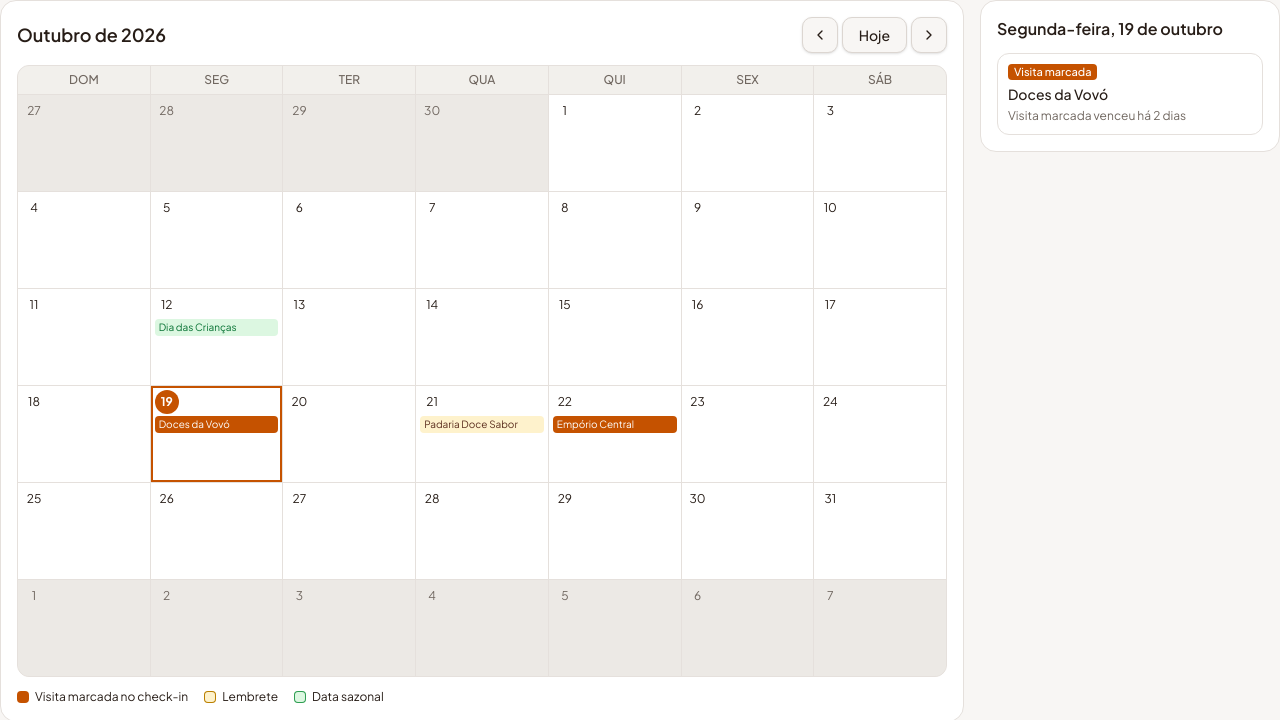
Test case: Calendario › clicar num dia mostra a lista do dia, com a visita marcada e a campanha
What coordinates should you click on to do the following:
click the button with aria-label "quinta-feira, 22 de outubro, 1 item"
I would click on:
 (615, 434)
Its box is [549, 386, 680, 482].
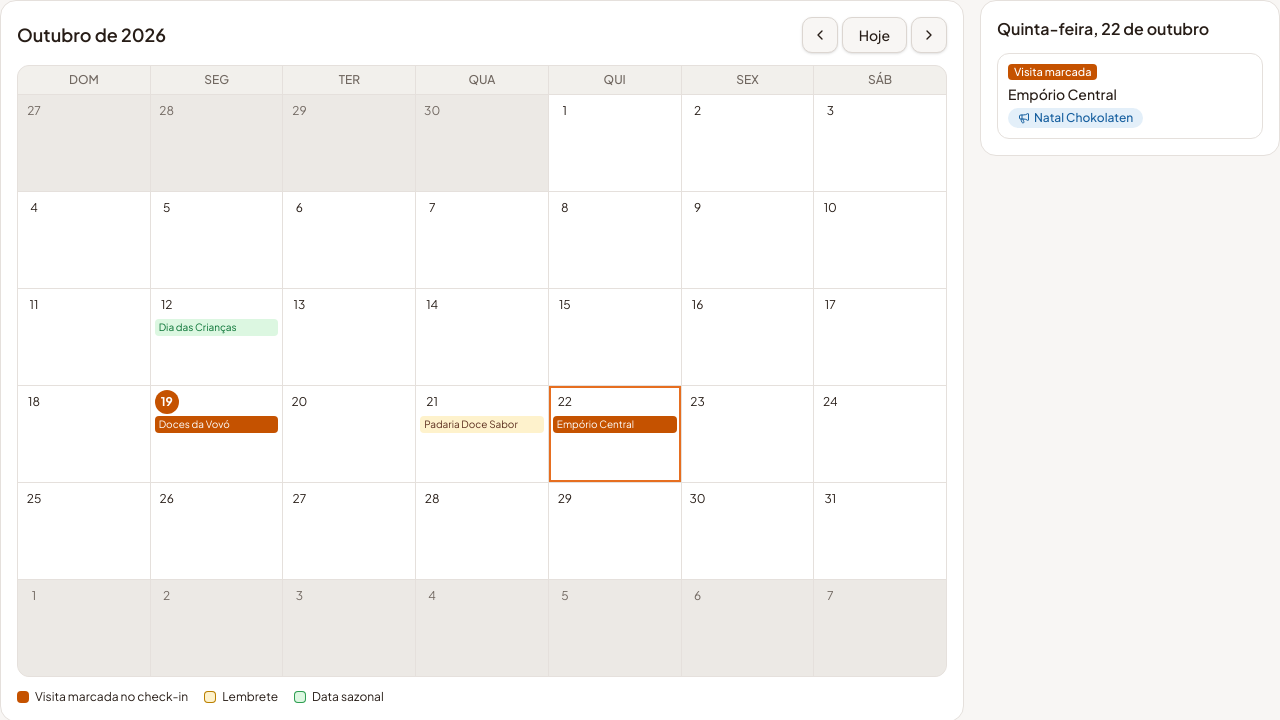
expect the text "Empório Central" below "quinta-feira, 22 de outubro" is shown: met, box [1008, 85, 1117, 103]
expect the link "venceu" is gone: met
expect the text "Natal Chokolaten" is shown: met, box [1018, 110, 1133, 126]
